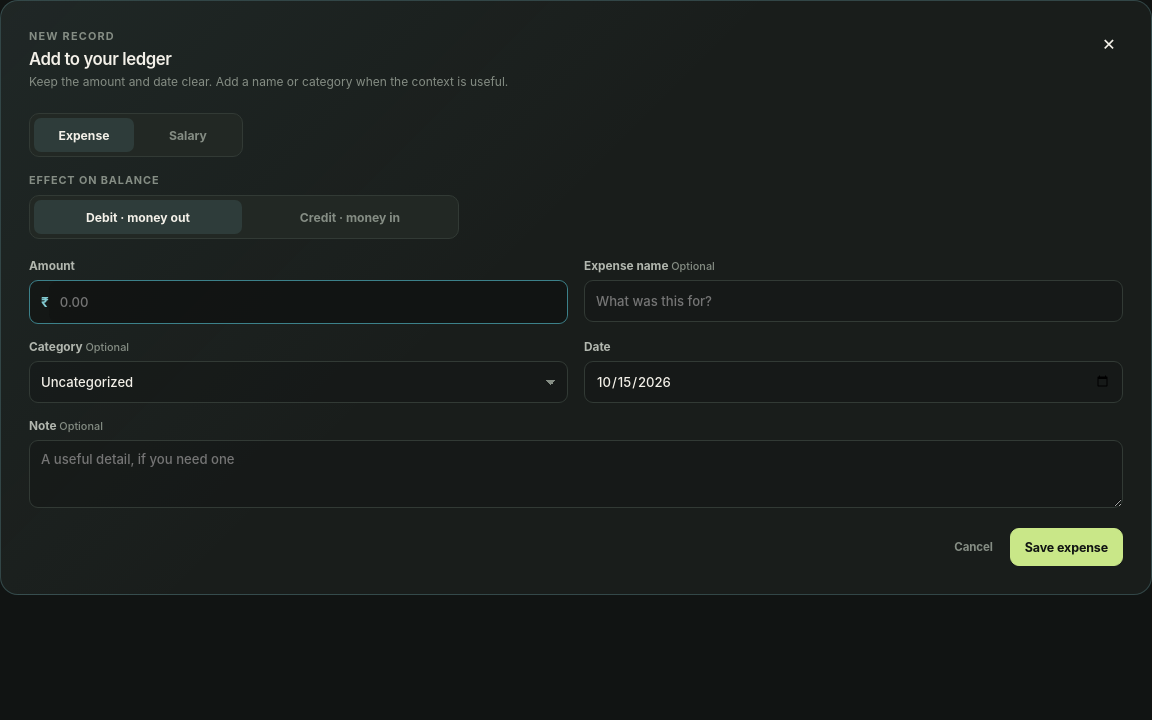
Scenario: TransactionForm › opens with expense selected and keeps amount required while metadata stays optional
The width and height of the screenshot is (1152, 720).
Click the button "Save expense".
click(1066, 547)  # box [1010,528,1123,566]
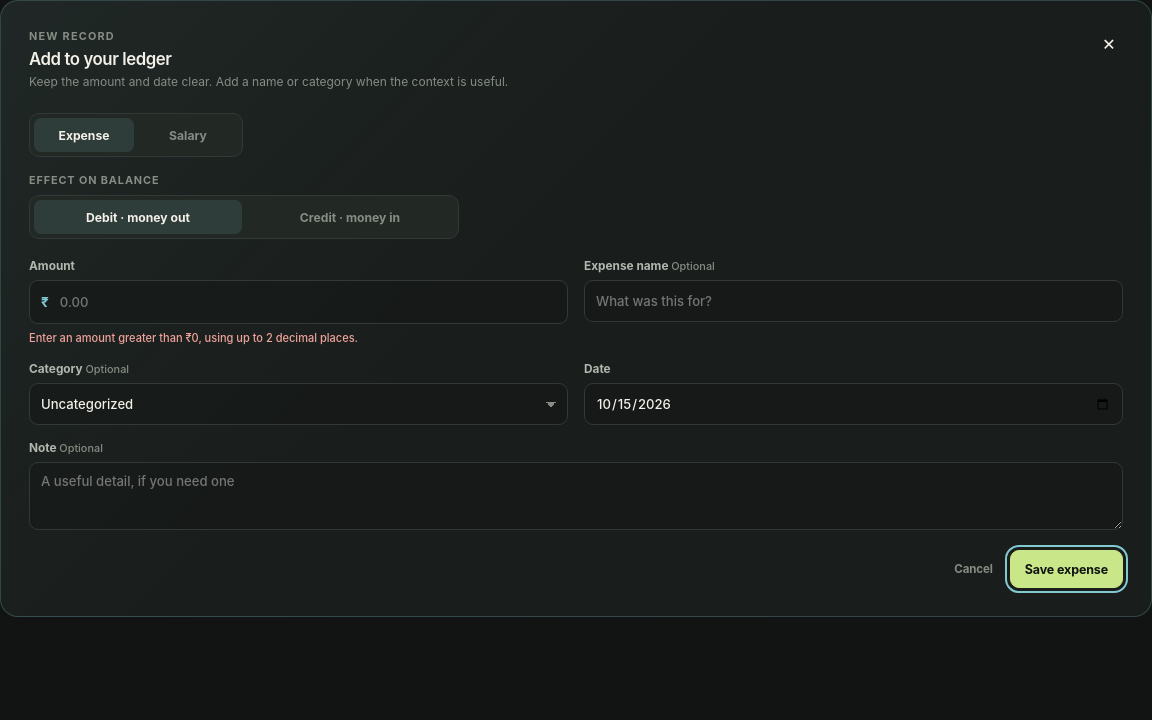
Expected: the text "amount greater than" is shown, [29,331,358,345]
